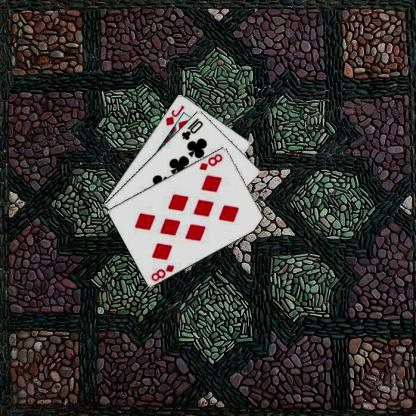10C: (179, 115, 204, 141)
8D: (196, 151, 224, 171), (148, 262, 176, 282)
JD: (164, 102, 186, 127)
